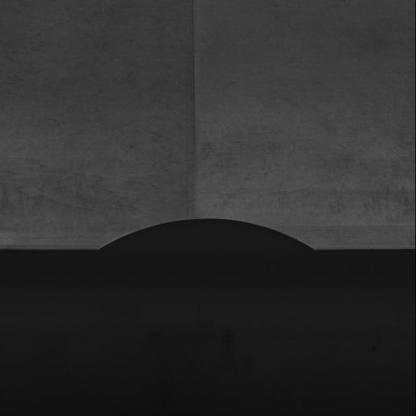crescent_gap: (93, 210, 324, 266)
welding_line: (175, 0, 216, 228)
